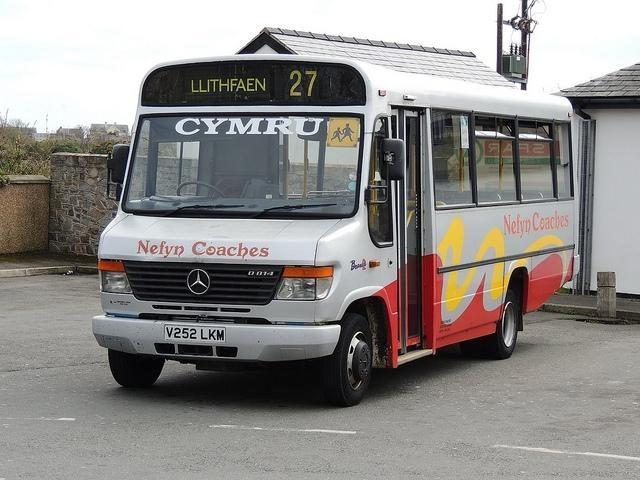bus: (92, 60, 580, 389)
